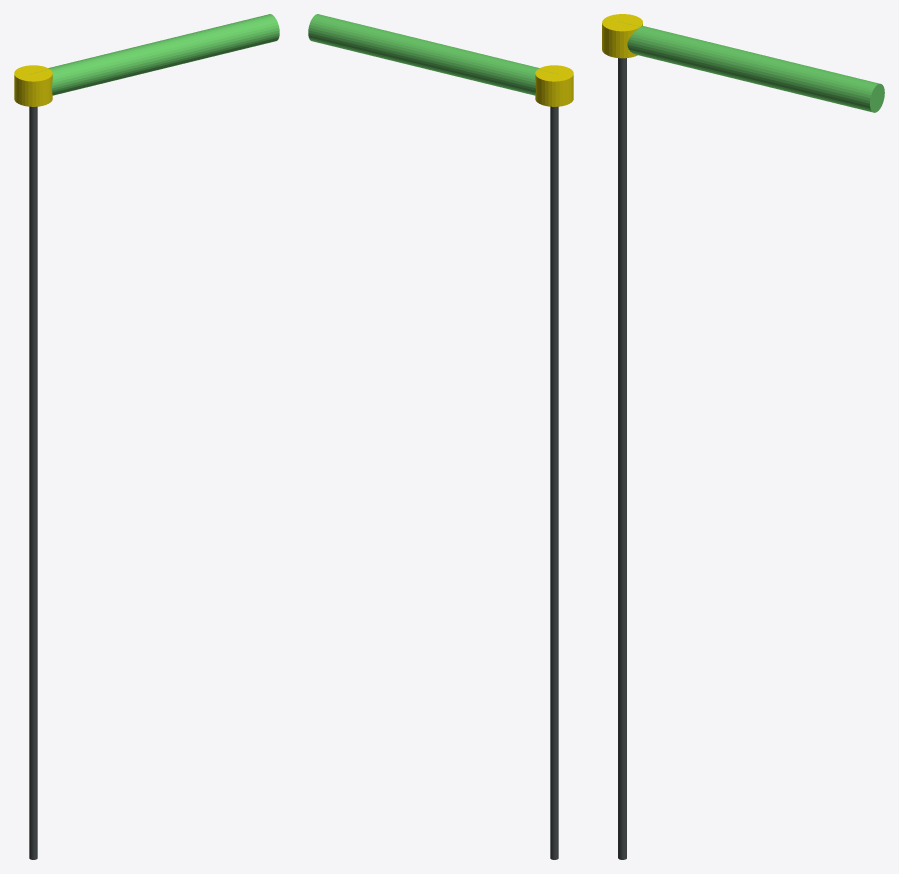
Rendered from roll.fbx.
The picture shows the model from 3 angles, left to right: view 1: azimuth 30°, elevation 25°; view 2: azimuth 150°, elevation 25°; view 3: azimuth 330°, elevation 25°; orthographic projection. The views are drawn at different scales.
Parts seen in each view (by area): view 1: 円柱.002, 円柱, 円柱.001; view 2: 円柱.002, 円柱, 円柱.001; view 3: 円柱, 円柱.002, 円柱.001.
Boxes of the visible parts, <box> form: 円柱.002: <box>29,106,37,859</box>; 円柱: <box>30,14,279,95</box>; 円柱.001: <box>14,65,52,106</box>; 円柱.002: <box>550,106,558,859</box>; 円柱: <box>308,14,557,95</box>; 円柱.001: <box>535,65,573,106</box>; 円柱: <box>618,21,884,112</box>; 円柱.002: <box>618,58,626,859</box>; 円柱.001: <box>602,14,642,58</box>.
Bounding box in the file's own units: 3614 × 10584 × 472.
